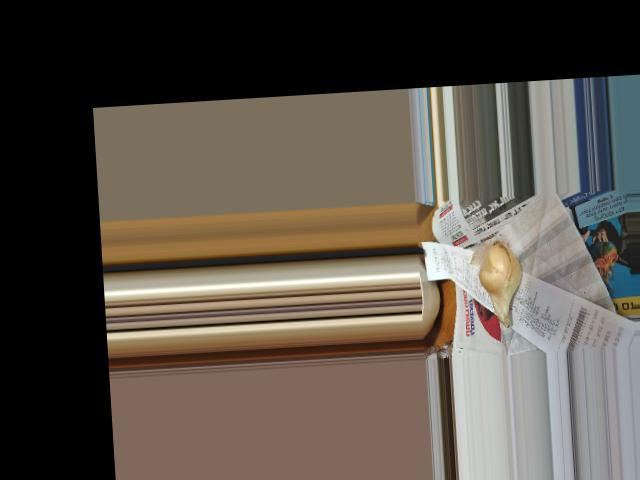onion: (479, 241, 528, 322)
